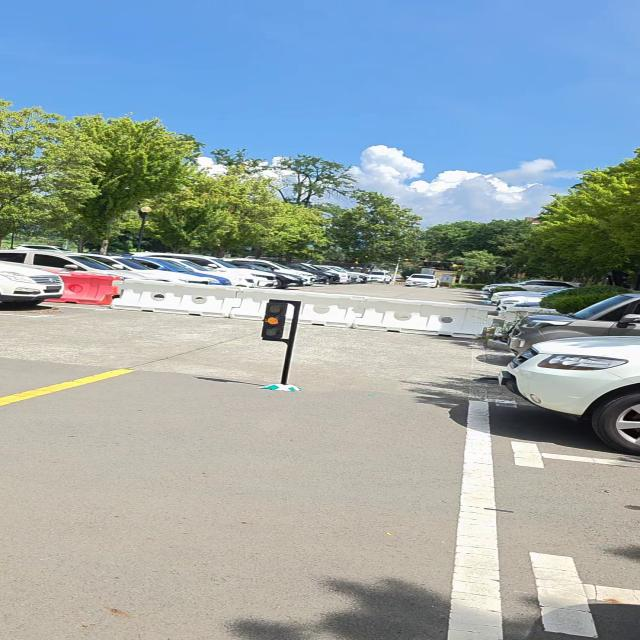yellow: (258, 301, 288, 340)
